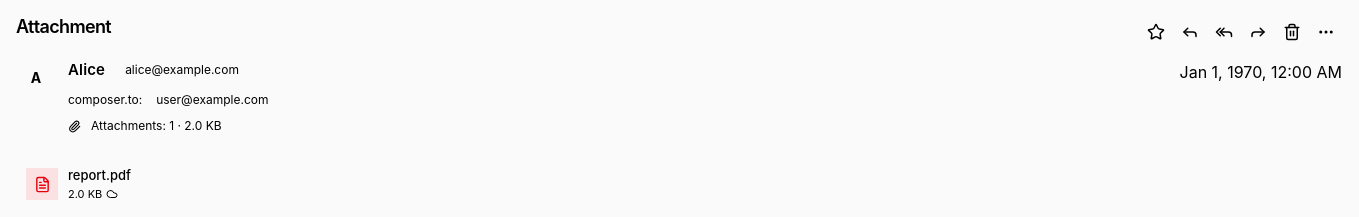
MessageViewer › opens message source in the independent raw-message window
Press the mouse on the button named "More actions": {"x": 1326, "y": 32} [1310,16,1342,48]
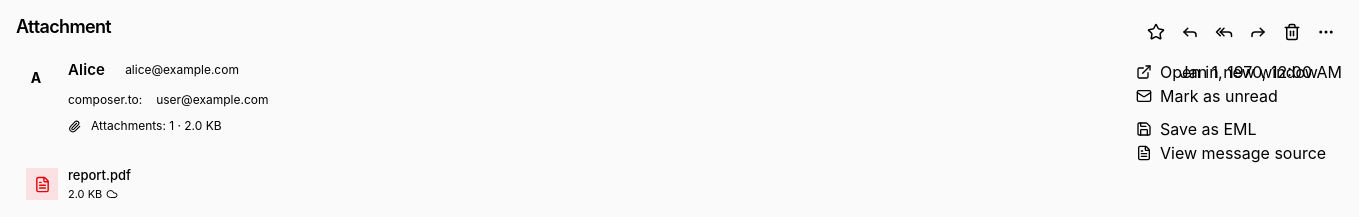
Click the menu item "View message source": {"x": 1231, "y": 153} [1126,141,1336,165]
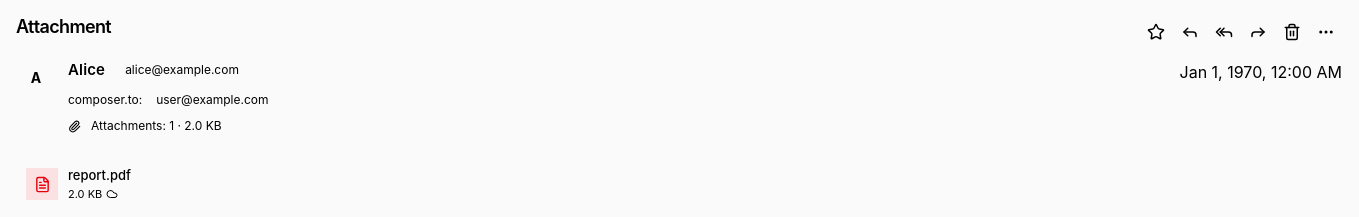
expect the menu item "message source" is gone: met
